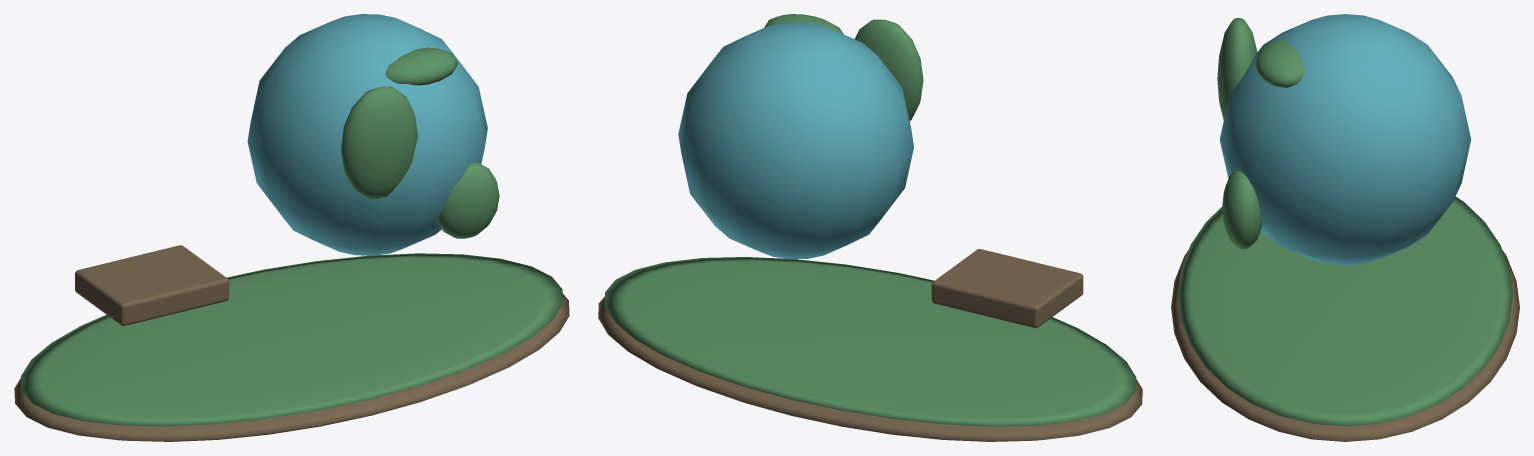
Rendered from earth-ball.glb.
3 renders of one model, left to right at view 1: azimuth 30°, elevation 25°; view 2: azimuth 150°, elevation 25°; view 3: azimuth 270°, elevation 25°, orthographic. The views are drawn at different scales.
Parts seen in each view (by area): view 1: earth-ball_surface_01, earth-ball_surface_02, earth-ball_surface_00; view 2: earth-ball_surface_01, earth-ball_surface_02, earth-ball_surface_00; view 3: earth-ball_surface_01, earth-ball_surface_02, earth-ball_surface_00.
Part boxes in pixels (x1,y1,x2,y2): earth-ball_surface_01: (21, 47, 562, 426); earth-ball_surface_02: (247, 14, 487, 255); earth-ball_surface_00: (14, 245, 569, 441); earth-ball_surface_01: (604, 14, 1136, 426); earth-ball_surface_02: (678, 22, 913, 259); earth-ball_surface_00: (598, 249, 1142, 441); earth-ball_surface_01: (1178, 17, 1512, 426); earth-ball_surface_02: (1219, 14, 1471, 265); earth-ball_surface_00: (1171, 250, 1519, 441).
Bounding box in the file's own units: 4.56 × 2.66 × 2.5.
